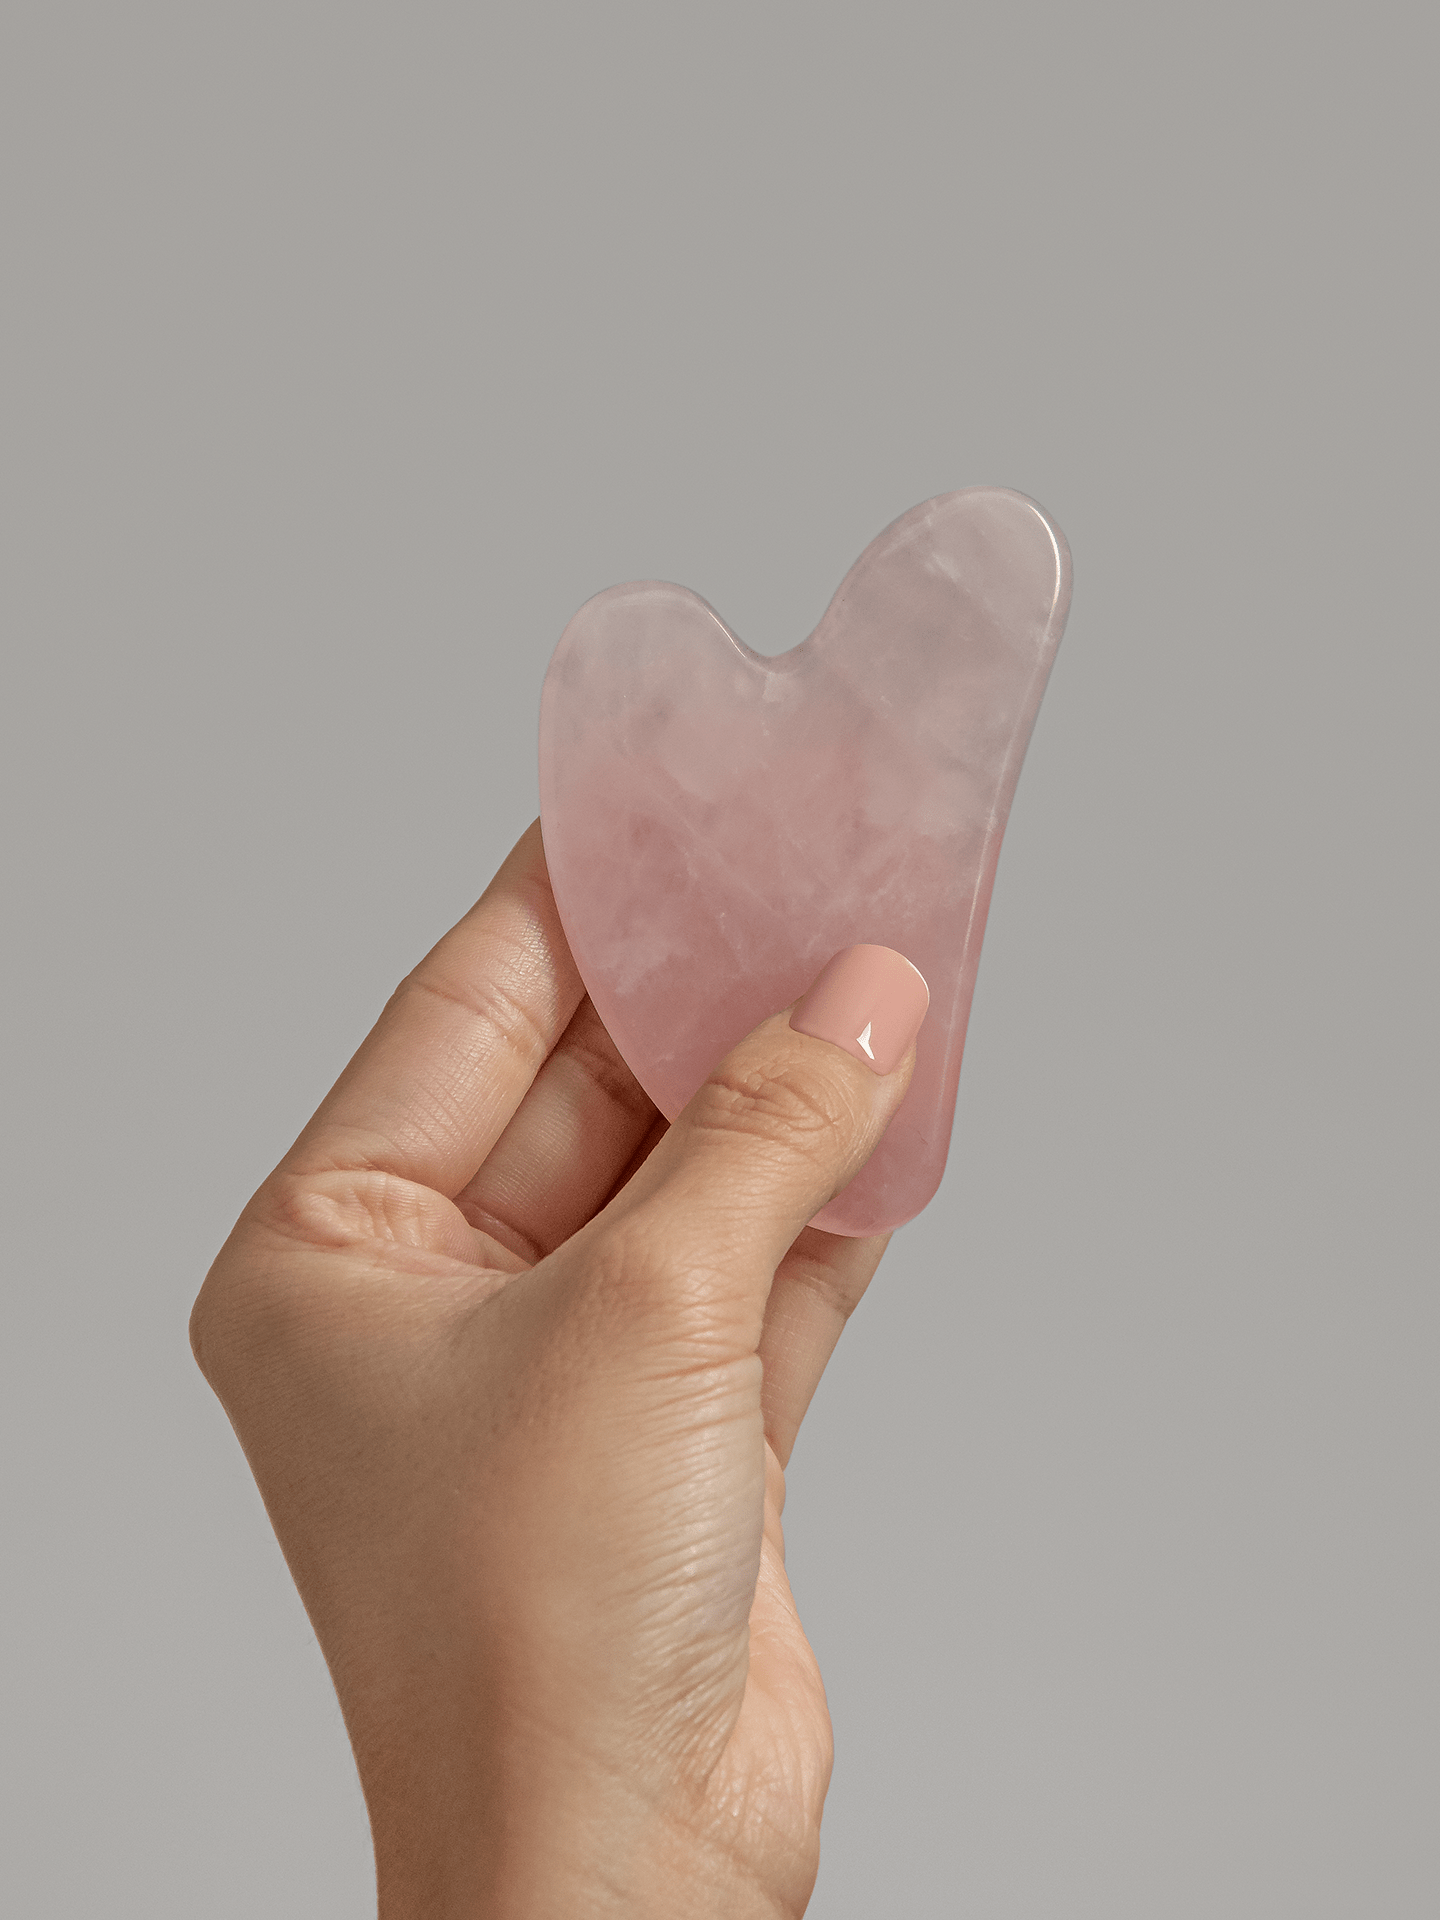Rose_Quartz: (529, 435, 1081, 1243)
